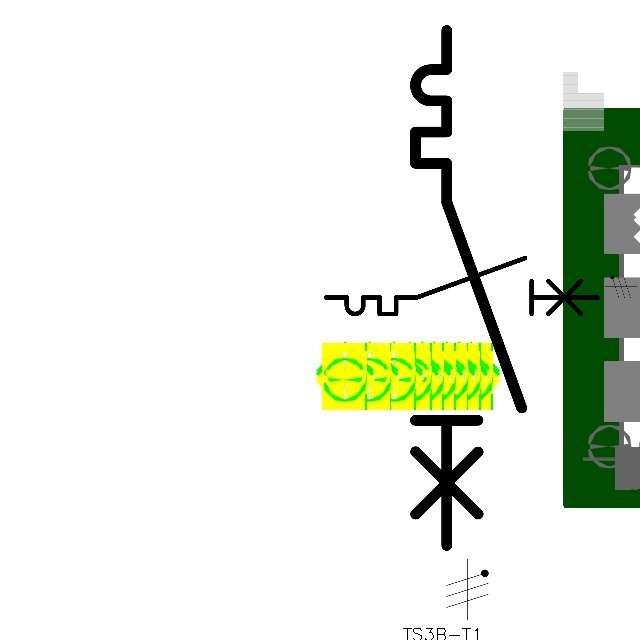interruptor_termomagnetico: (402, 17, 534, 559), (319, 251, 604, 321)
